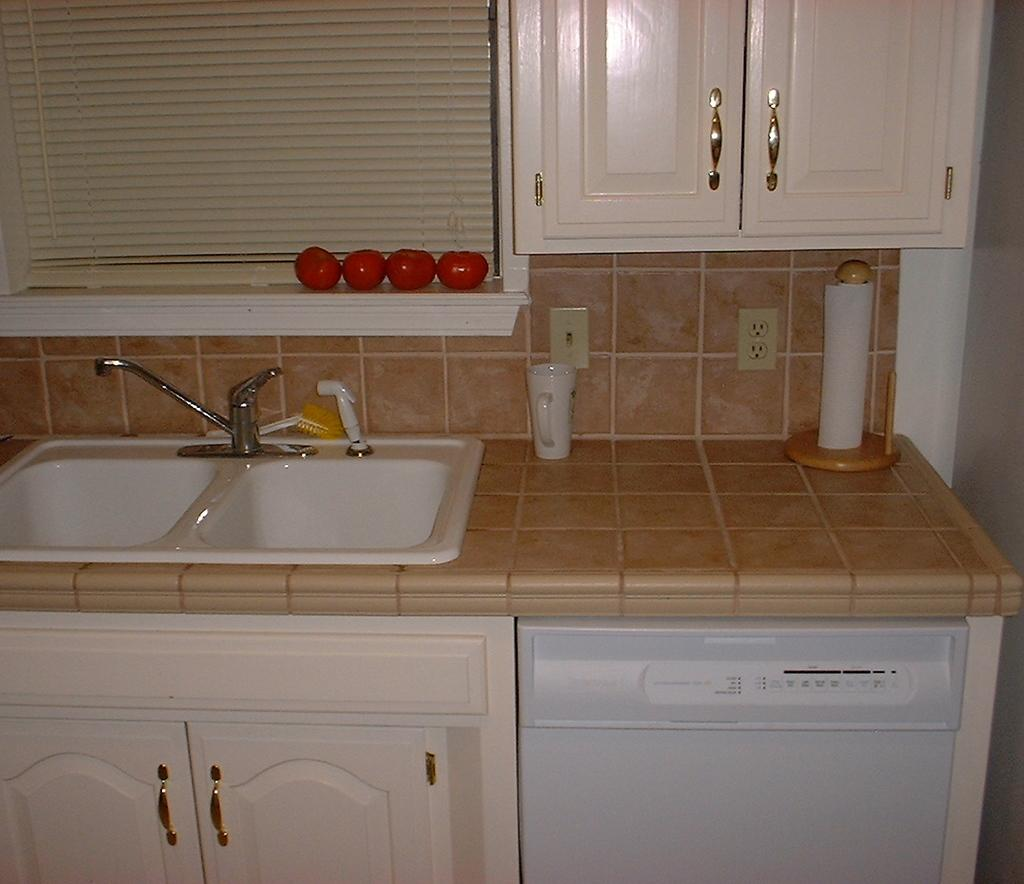cabinet_door: (188, 713, 439, 884), (536, 21, 738, 222), (762, 28, 936, 224), (4, 724, 185, 884)
handle: (756, 84, 793, 196), (700, 86, 730, 189), (204, 762, 230, 860), (151, 767, 175, 857)
